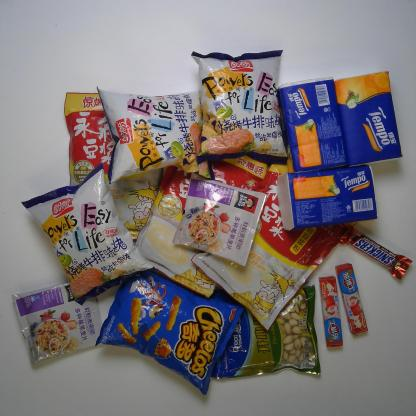Candy: (337, 257, 373, 338), (316, 269, 352, 348)
Chocolate: (337, 221, 413, 280)
Dried Fruit: (201, 280, 327, 378)
Instant Drink: (172, 158, 358, 329), (129, 137, 274, 299), (56, 87, 165, 241), (6, 276, 113, 373), (167, 174, 269, 275)
Puffed Food: (84, 270, 262, 398), (19, 161, 160, 296), (187, 44, 308, 162), (91, 78, 223, 183)
Tissue: (275, 76, 356, 173), (335, 69, 414, 168), (282, 162, 388, 234)
